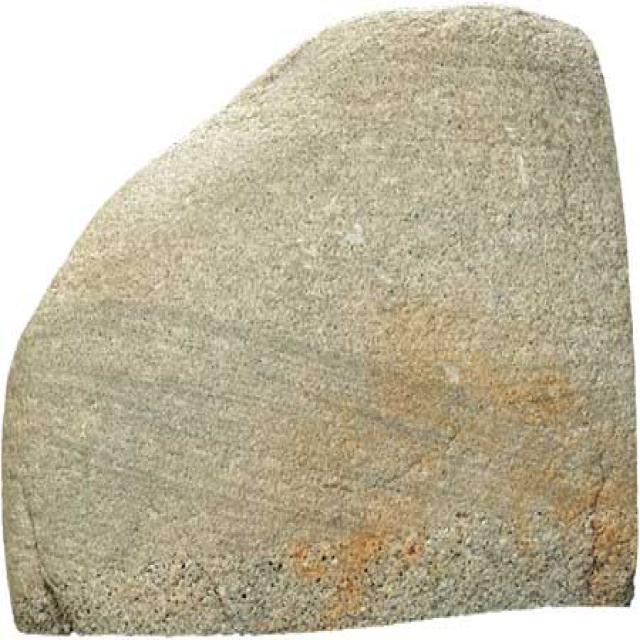Sedimentary: (4, 4, 640, 625)
